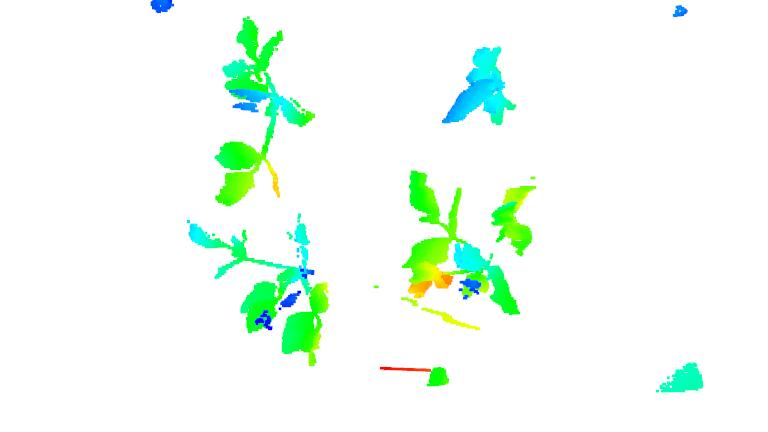mungbean: (184, 207, 334, 370), (209, 16, 319, 213), (399, 168, 540, 320), (440, 45, 517, 131)
